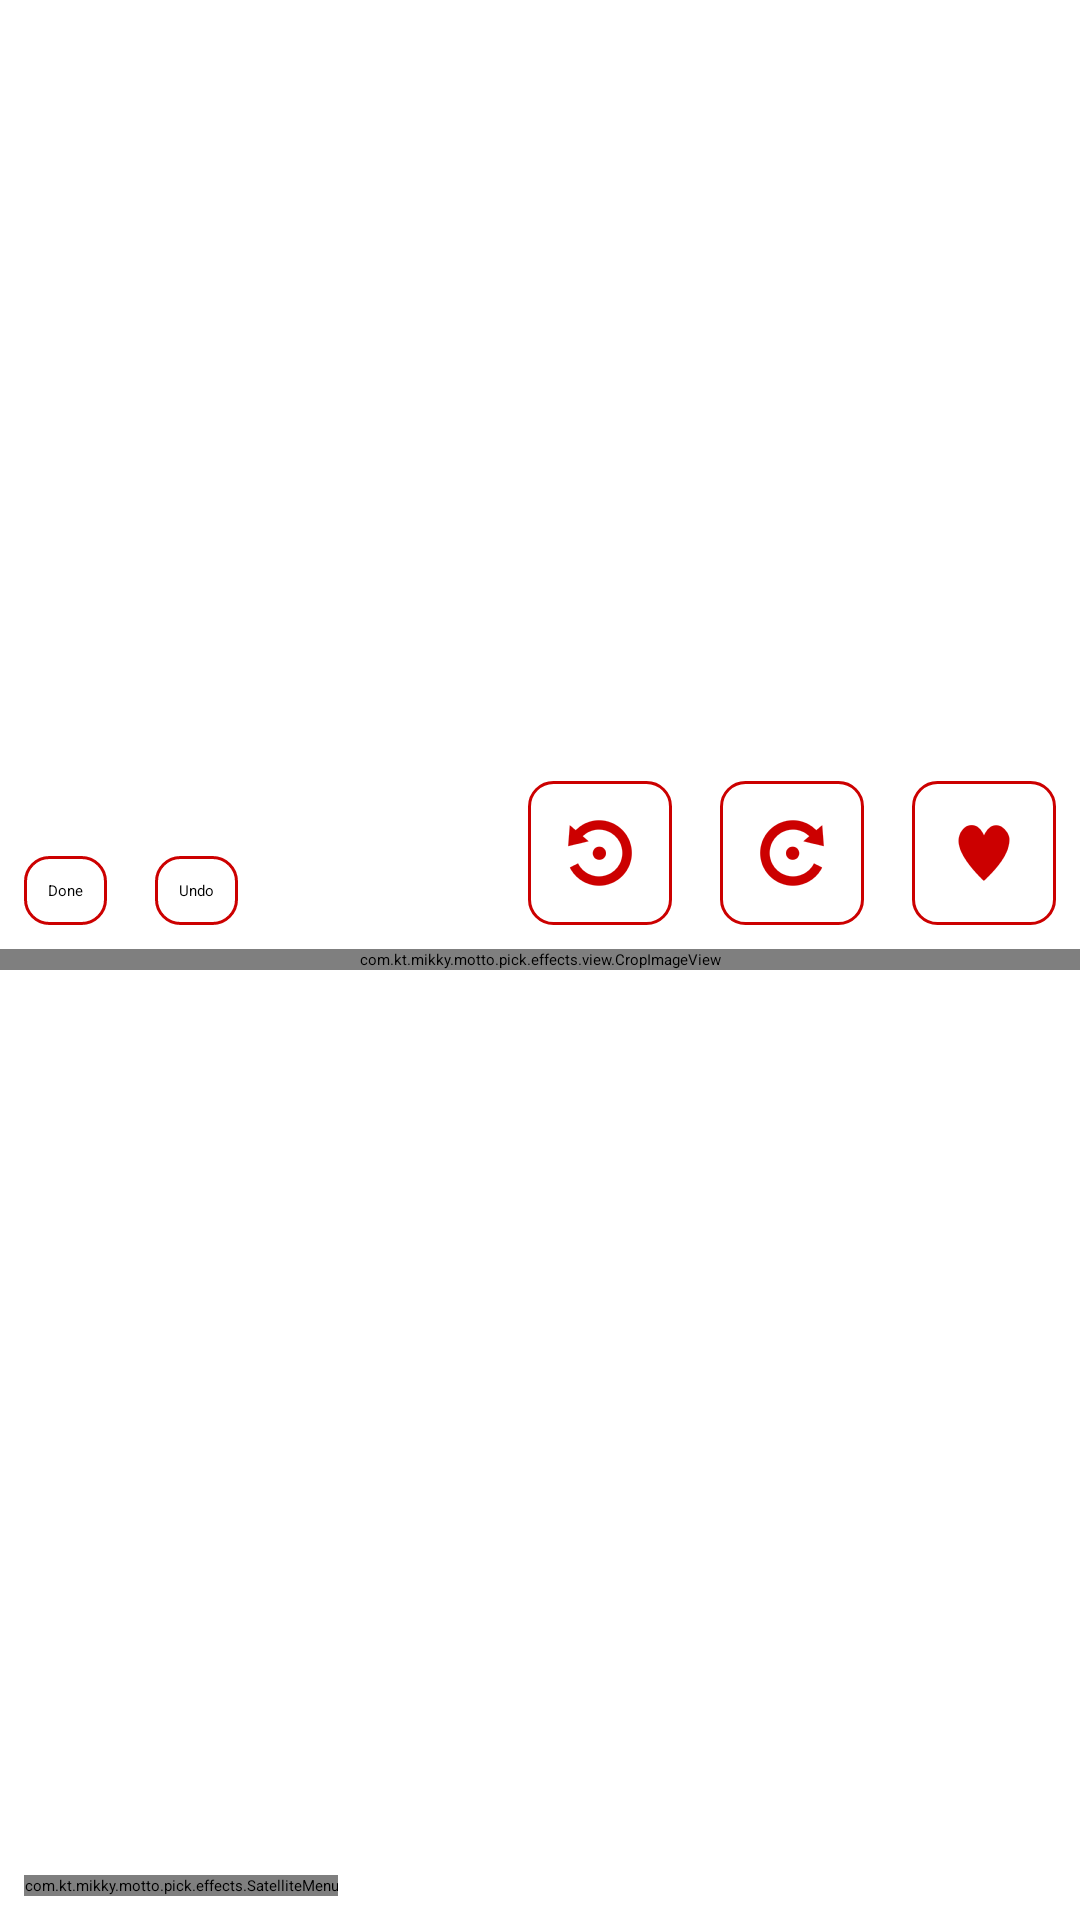

Icons on this 1080×1920 Android screen, each with the point to tap as [x,y]:
images rotate left: [600,853]
images rotate right: [792,853]
rating favorite: [984,853]
